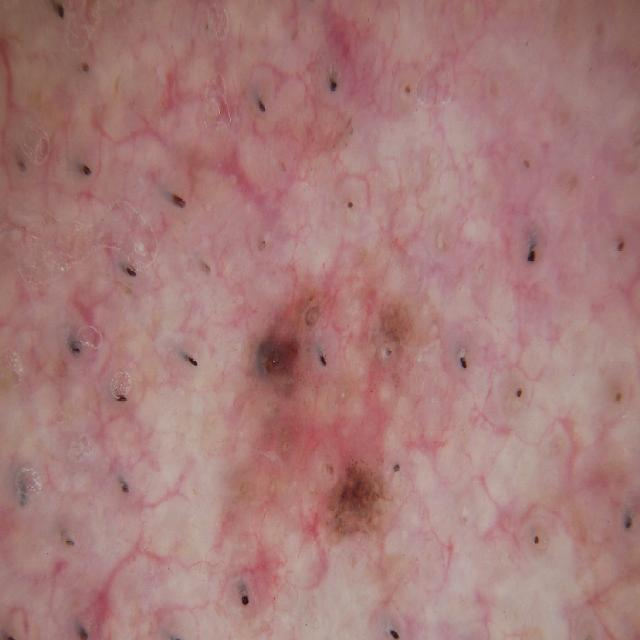Melanoma: (85, 152, 482, 634)
